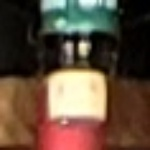bottle: (21, 17, 121, 110)
